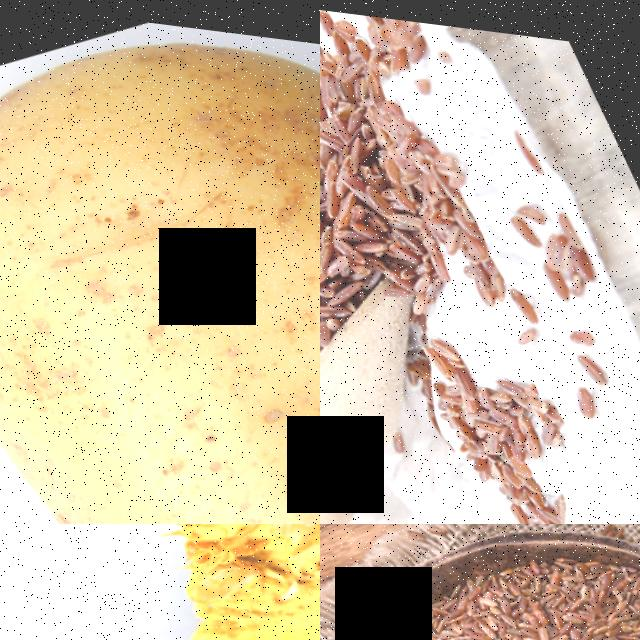potato: (0, 0, 320, 524)
pumpkin: (46, 524, 320, 640), (30, 591, 320, 640)
red rice: (320, 0, 496, 300), (404, 314, 597, 524), (320, 524, 640, 640), (320, 163, 415, 450)
